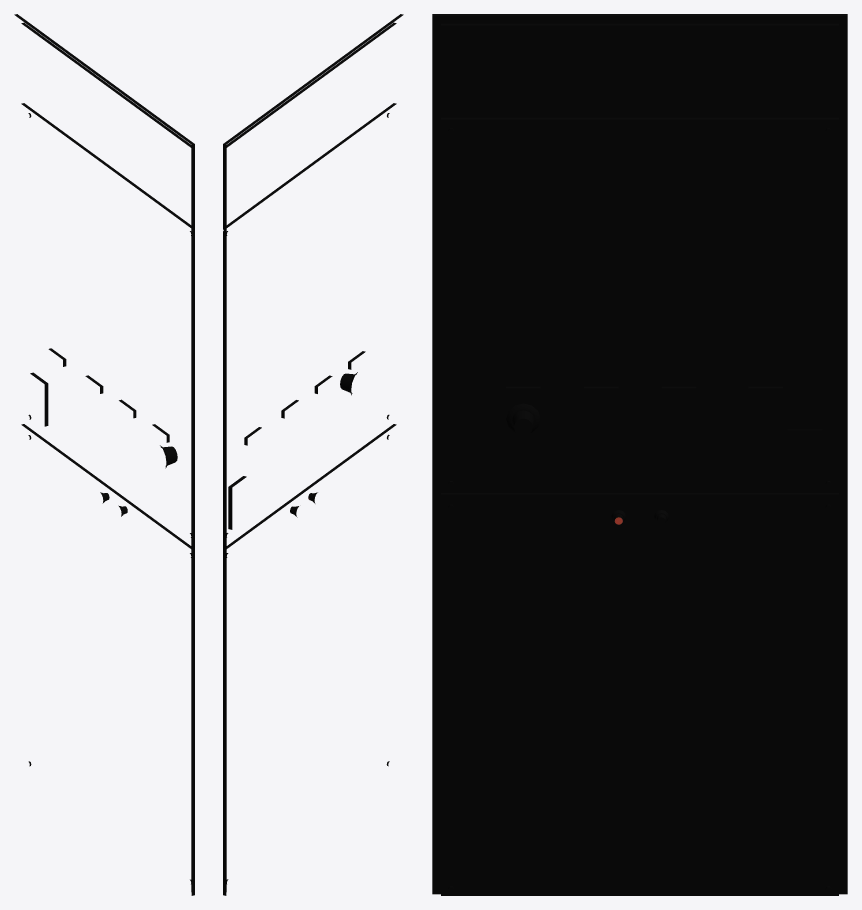
The picture shows the model from 3 angles, left to right: view 1: azimuth 30°, elevation 25°; view 2: azimuth 150°, elevation 25°; view 3: azimuth 270°, elevation 25°; orthographic projection. The views are drawn at different scales.
Parts seen in each view (by area): view 1: body0_model0_lod0_mesh0; view 2: body0_model0_lod0_mesh0; view 3: body0_model0_lod0_mesh0.
Boxes of the visible parts, <box> form: body0_model0_lod0_mesh0: <box>14,14,194,895</box>; body0_model0_lod0_mesh0: <box>223,14,403,895</box>; body0_model0_lod0_mesh0: <box>432,14,847,895</box>.
Bounding box in the file's own units: 3.25 × 112 × 47.99.
Materials: 1 (1 with a texture image).
